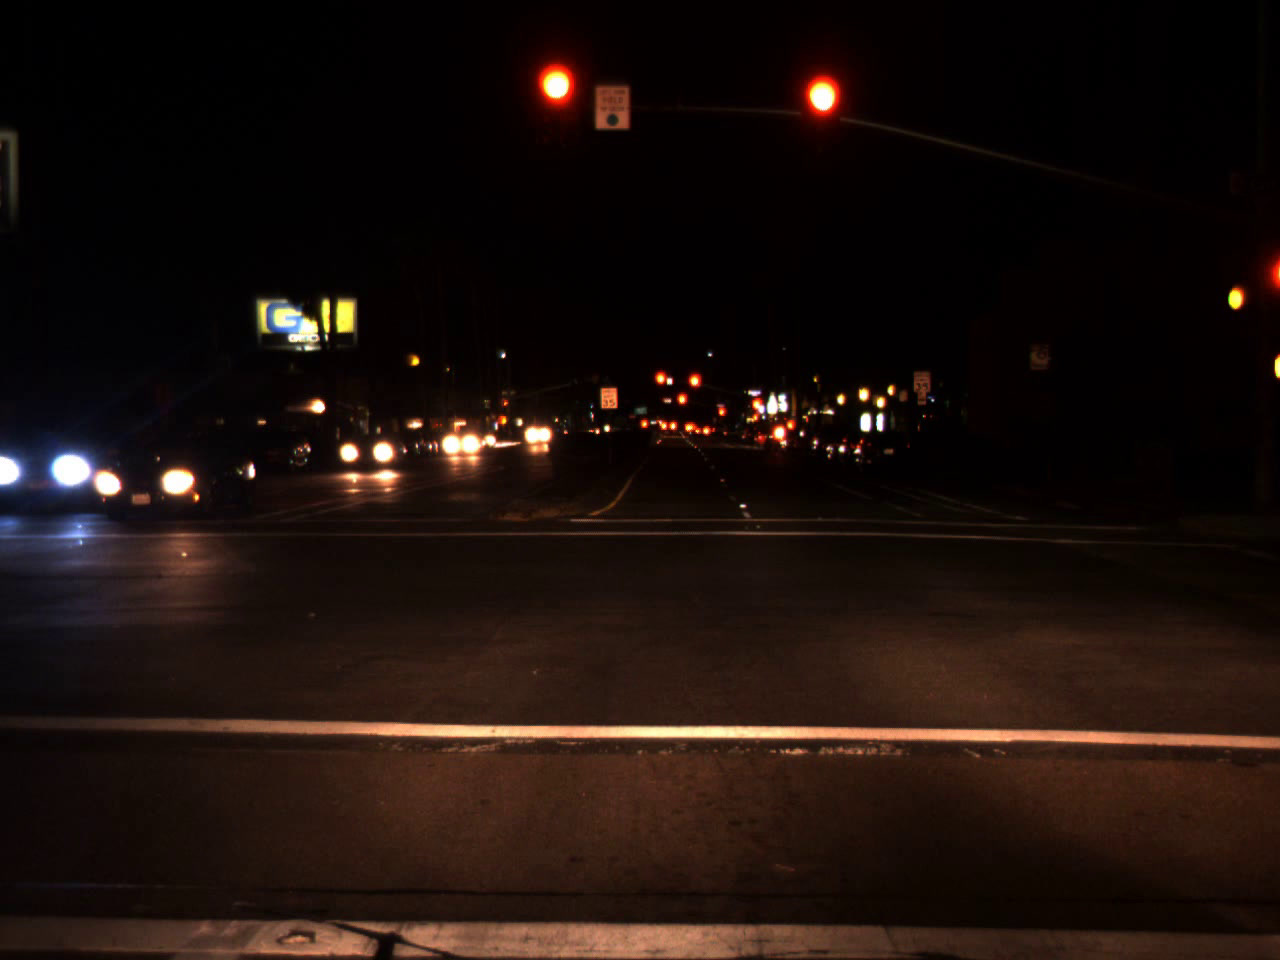stop: (537, 65, 577, 143), (802, 75, 841, 153), (653, 370, 671, 399), (686, 372, 701, 401), (675, 391, 688, 418), (749, 396, 764, 412), (717, 406, 727, 427), (503, 398, 509, 414)
